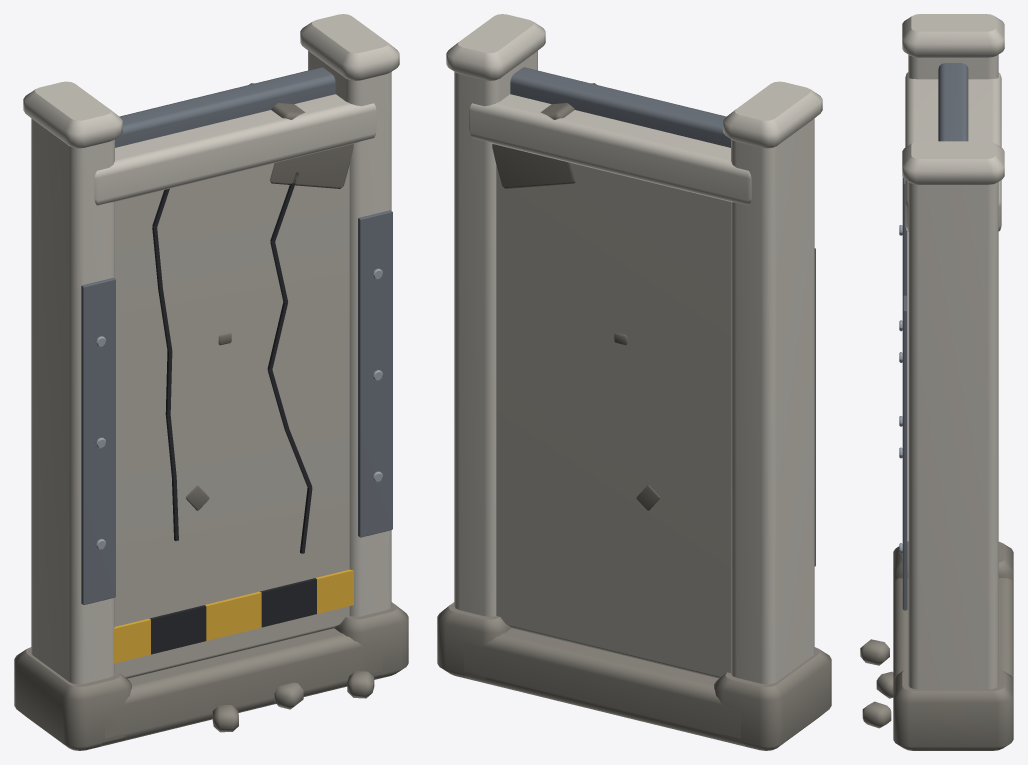
File: barriere_beton_arme_abime2.glb
3 views of the same model, side by side, from view 1: azimuth 30°, elevation 25°; view 2: azimuth 150°, elevation 25°; view 3: azimuth 270°, elevation 25° (orthographic). The views are drawn at different scales.
Parts seen in each view (by area): view 1: barriere_beton_cl.012, poteau_g_beton_cl_clair.012, barriere_beton_cl_sombre.012, poteau_d_beton_cl_clair.012, barriere_beton_cl_clair.012, poteau_d_acier_cl.006, poteau_g_acier_cl.006, barriere_noir_cl.008, poteau_g_beton_cl_sombre.012, barriere_acier_cl.006, barriere_jaune_cl.006, barriere_beton_cl_casse.008 (+1 smaller); view 2: barriere_beton_cl.012, poteau_g_beton_cl_clair.012, poteau_d_beton_cl_clair.012, barriere_beton_cl_sombre.012, barriere_beton_cl_clair.012, poteau_g_beton_cl_sombre.012, barriere_acier_cl.006, barriere_beton_cl_casse.008, poteau_d_beton_cl_sombre.012; view 3: poteau_d_beton_cl_clair.012, poteau_d_beton_cl_sombre.012, poteau_g_beton_cl_clair.012, barriere_beton_cl_clair.012, barriere_beton_cl_sombre.012, barriere_acier_cl.006, poteau_d_acier_cl.006, poteau_g_beton_cl_sombre.012, poteau_g_acier_cl.006.
Part boxes in pixels (left/top/right/bottom): barriere_beton_cl.012: left=115, top=163, right=349, bottom=678; poteau_g_beton_cl_clair.012: left=23, top=81, right=122, bottom=684; barriere_beton_cl_sombre.012: left=101, top=628, right=381, bottom=746; poteau_d_beton_cl_clair.012: left=300, top=14, right=399, bottom=616; barriere_beton_cl_clair.012: left=94, top=94, right=376, bottom=205; poteau_d_acier_cl.006: left=358, top=210, right=392, bottom=537; poteau_g_acier_cl.006: left=81, top=278, right=115, bottom=604; barriere_noir_cl.008: left=149, top=172, right=316, bottom=654; poteau_g_beton_cl_sombre.012: left=14, top=647, right=131, bottom=750; barriere_acier_cl.006: left=115, top=67, right=335, bottom=147; barriere_jaune_cl.006: left=114, top=569, right=353, bottom=663; barriere_beton_cl_casse.008: left=186, top=83, right=353, bottom=510; barriere_beton_cl.012: left=496, top=163, right=730, bottom=678; poteau_g_beton_cl_clair.012: left=723, top=81, right=822, bottom=684; poteau_d_beton_cl_clair.012: left=446, top=14, right=545, bottom=616; barriere_beton_cl_sombre.012: left=464, top=628, right=744, bottom=746; barriere_beton_cl_clair.012: left=469, top=94, right=751, bottom=205; poteau_g_beton_cl_sombre.012: left=714, top=647, right=831, bottom=750; barriere_acier_cl.006: left=510, top=67, right=730, bottom=147; barriere_beton_cl_casse.008: left=492, top=83, right=659, bottom=510; poteau_d_beton_cl_sombre.012: left=437, top=602, right=511, bottom=678; poteau_d_beton_cl_clair.012: left=902, top=141, right=1004, bottom=689; poteau_d_beton_cl_sombre.012: left=893, top=669, right=1013, bottom=750; poteau_g_beton_cl_clair.012: left=902, top=14, right=1004, bottom=79; barriere_beton_cl_clair.012: left=905, top=72, right=1001, bottom=231; barriere_beton_cl_sombre.012: left=860, top=578, right=1013, bottom=728; barriere_acier_cl.006: left=938, top=63, right=968, bottom=141; poteau_d_acier_cl.006: left=902, top=295, right=907, bottom=610; poteau_g_beton_cl_sombre.012: left=893, top=541, right=1013, bottom=581; poteau_g_acier_cl.006: left=902, top=177, right=907, bottom=296.
Size of the model in its own units: 0.62 by 1.08 by 0.2545.
